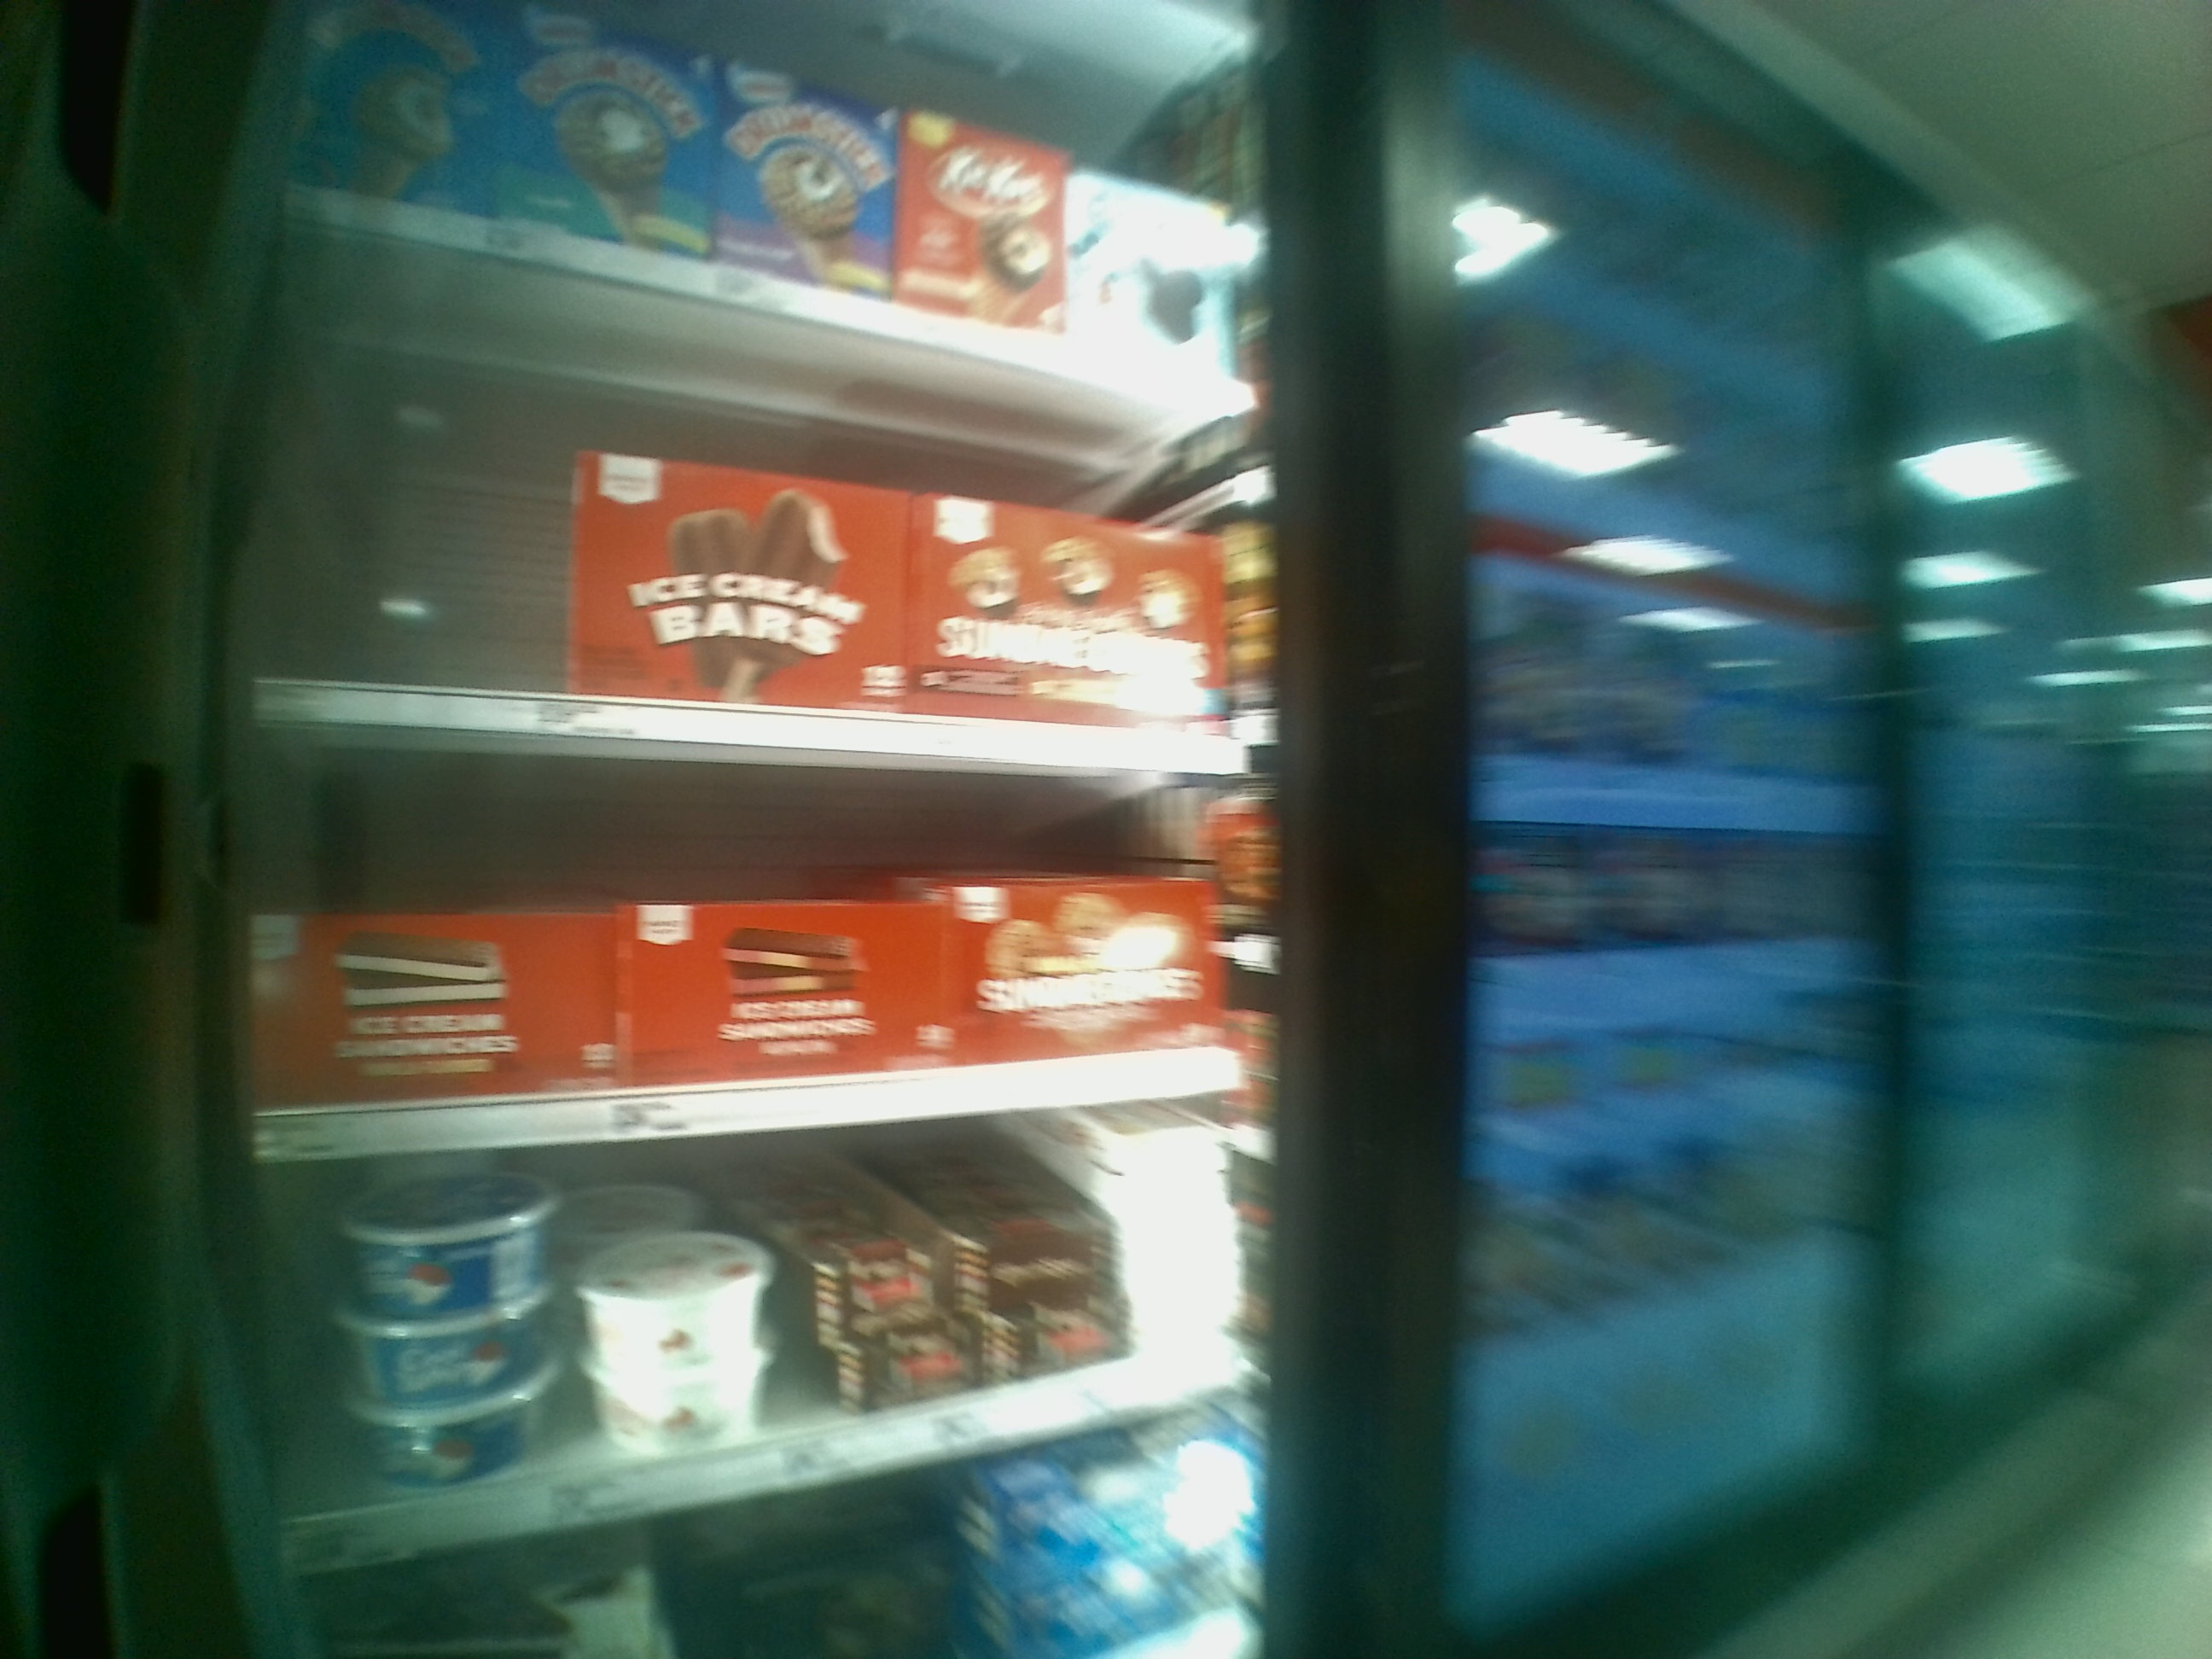shelf: (249, 713, 1325, 1162)
